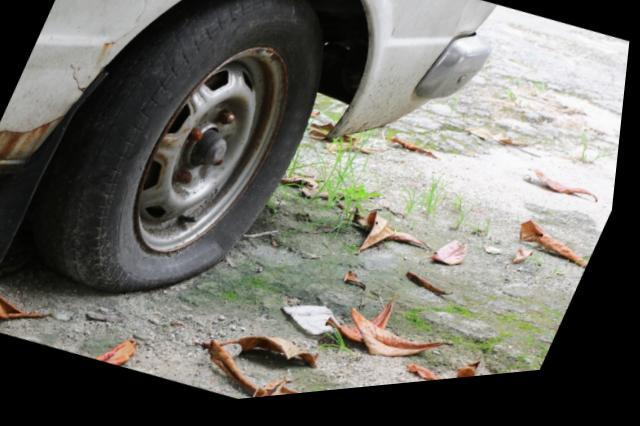tire flat: (54, 0, 326, 294)
